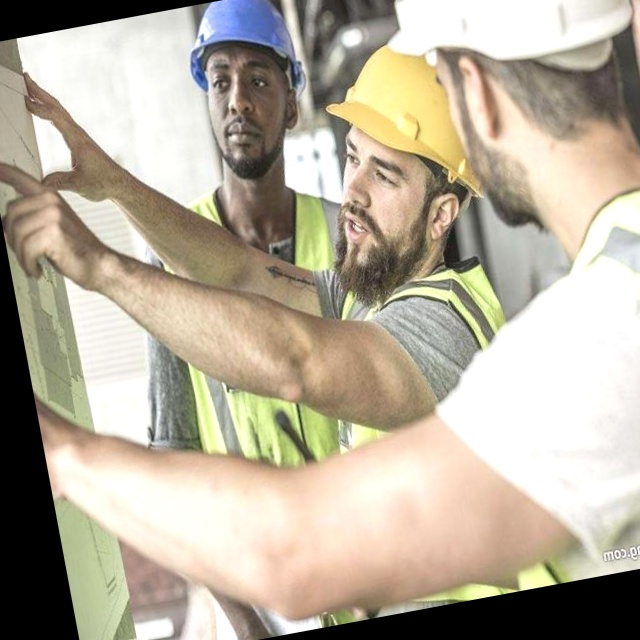Con_Casco: (174, 0, 320, 176)
